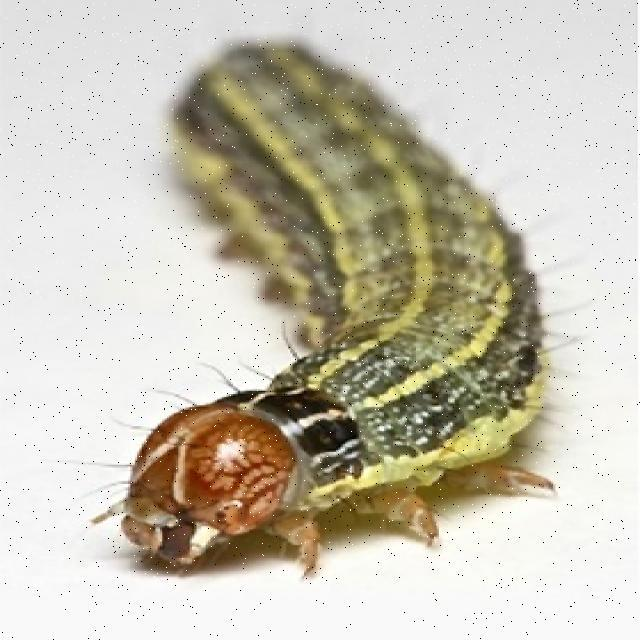army worm: (96, 29, 574, 582)
